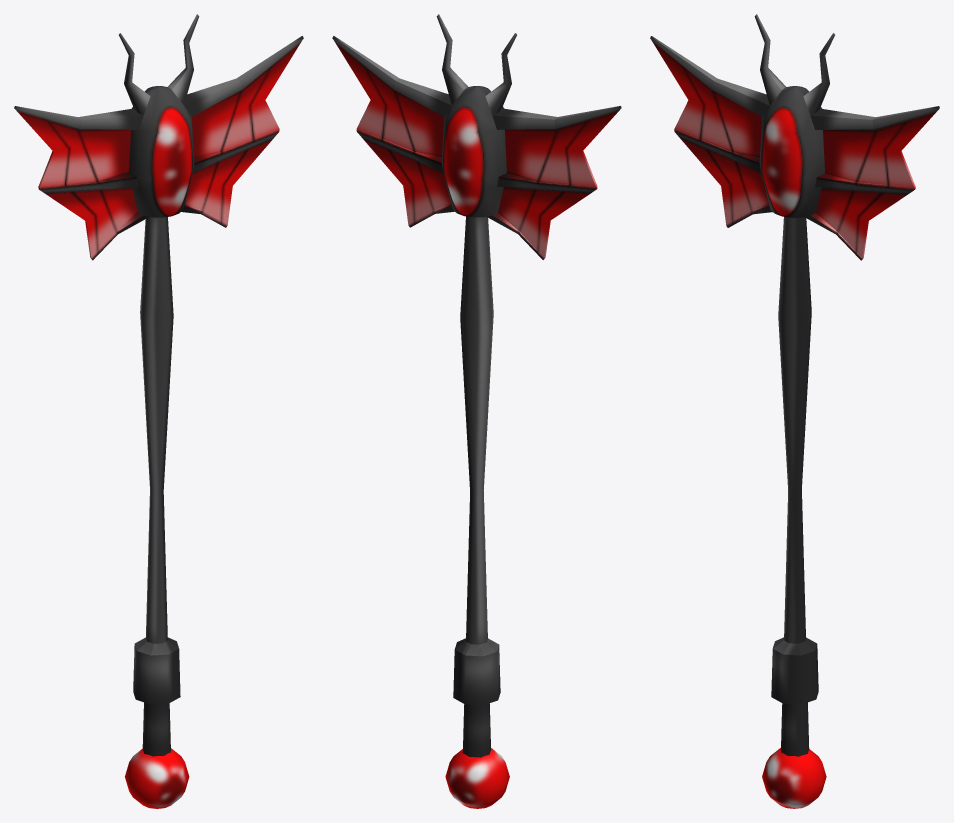
The model's file is WingedStaff.FBX.
3 renders of one model, left to right at view 1: azimuth 30°, elevation 25°; view 2: azimuth 150°, elevation 25°; view 3: azimuth 330°, elevation 25°, orthographic.
Visible parts, largest first — view 1: Winged Staff; view 2: Winged Staff; view 3: Winged Staff.
Boxes of the visible parts, left/top/right/bottom form: Winged Staff: left=14, top=14, right=303, bottom=808; Winged Staff: left=332, top=14, right=621, bottom=808; Winged Staff: left=650, top=14, right=939, bottom=808.
Bounding box in the file's own units: 5.69 × 1.22 × 14.74.
1 material, 1 textured.
